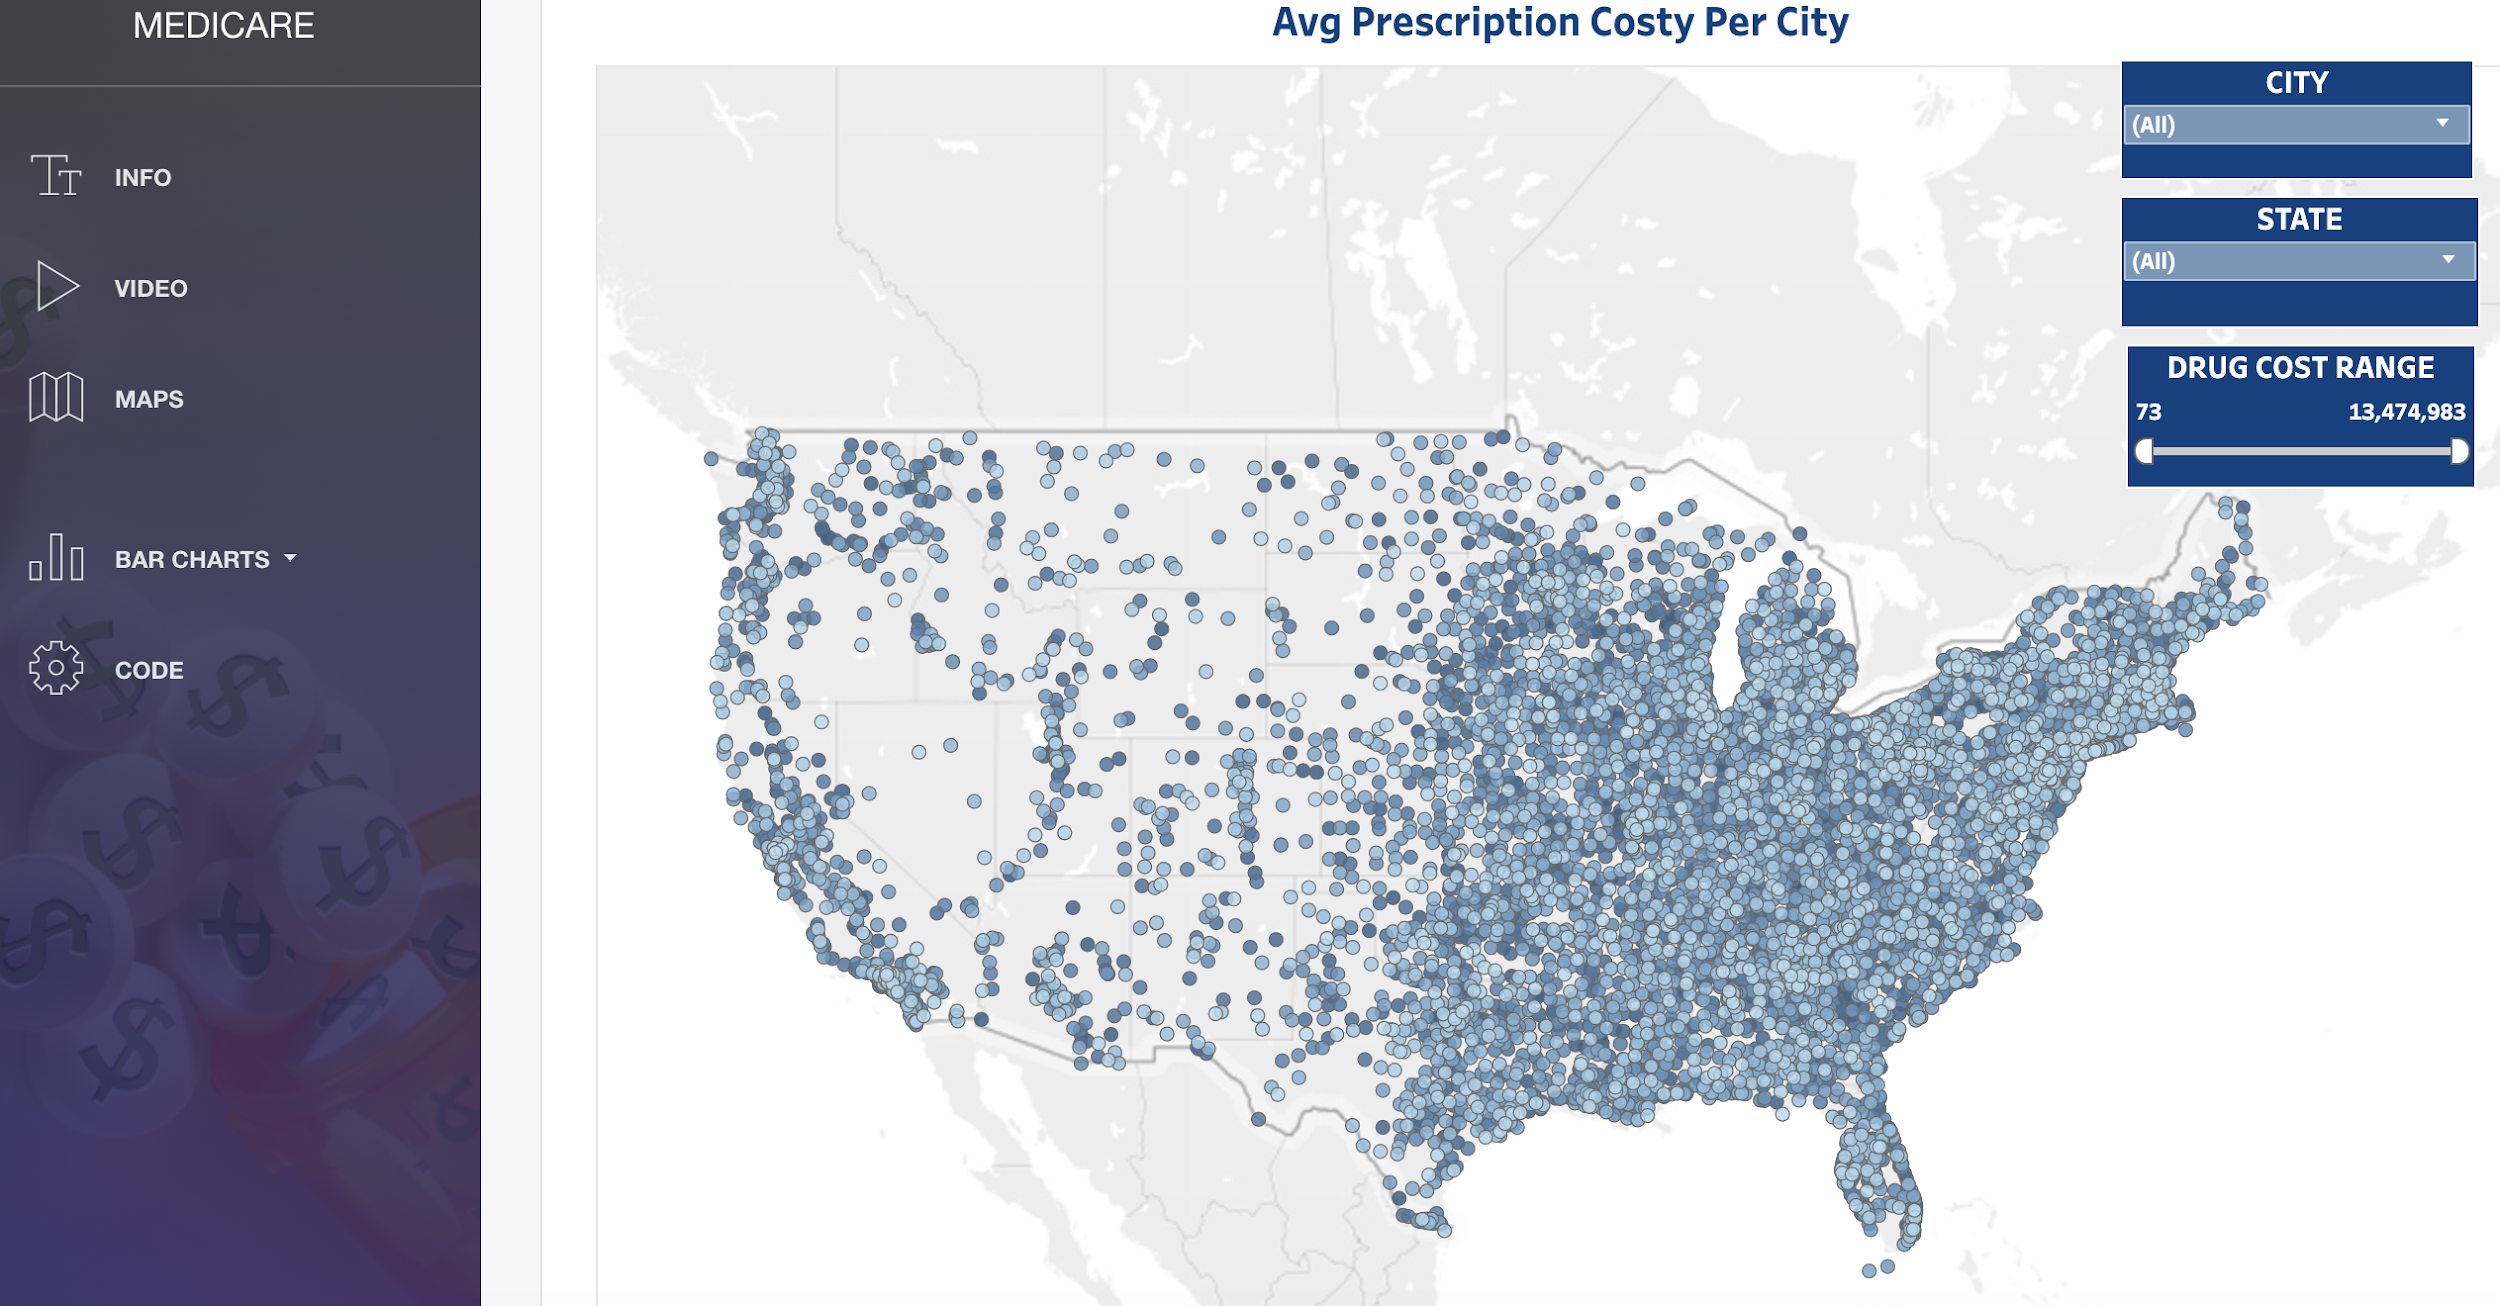

This screenshot's page, from the dashboard's own definition file:
{"tool":"tableau","page":{"name":"Dashboard 1","canvas":[1000,1000],"units":"permille","ordinal":0},"visuals":[{"type":"worksheet","title":"Sheet 1","mark":"Automatic","rows":["total_drug_cost"],"cols":["Region","Nppes_Provider_State"],"box":[4.8,9.3,893.8,981.4]},{"type":"legend","title":"Sheet 1","param":"[federated.18ietnm1om8f7d1h1xepw1aqygfa].[none:Nppes_Provider_State:nk]","box":[898.6,9.3,96.6,981.4]}]}

Visuals, with their boxes on the dashboard's canvas, which has no fixed pixel size, in thousandths of its width and height (x1, y1, x2, y2). These are canvas units, not pixel positions in the 2500x1306 screenshot, which may show the page scaled, cropped or inside an application window:
"Sheet 1" worksheet: 5,9,899,991
"Sheet 1" legend: 899,9,995,991
